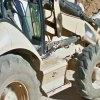Tractor: (9, 5, 100, 94)
